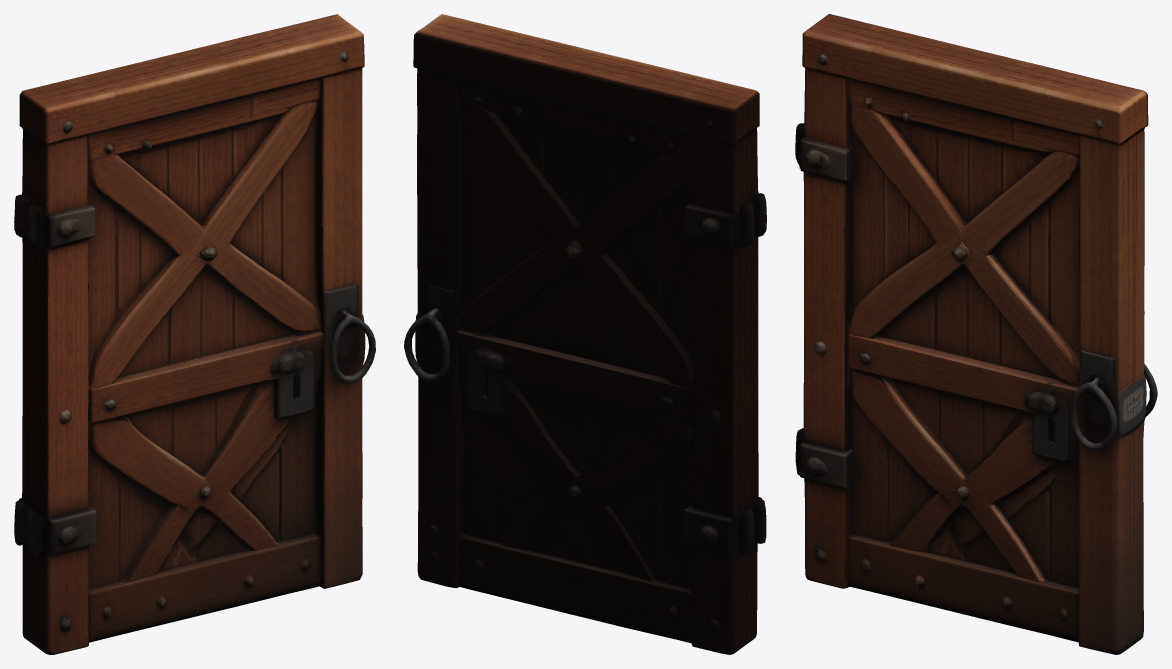
Rendered from door_wood_square.glb.
3 views of the same model, side by side, from view 1: azimuth 30°, elevation 25°; view 2: azimuth 150°, elevation 25°; view 3: azimuth 330°, elevation 25° (orthographic).
Visible parts, largest first — view 1: world; view 2: world; view 3: world.
Part boxes in pixels (x1,y1,x2,y2): world: (14,14,375,654); world: (404,14,766,654); world: (795,14,1157,654).
Size of the model in its own units: 0.6406 by 1 by 0.1496.
1 material, 1 textured.
